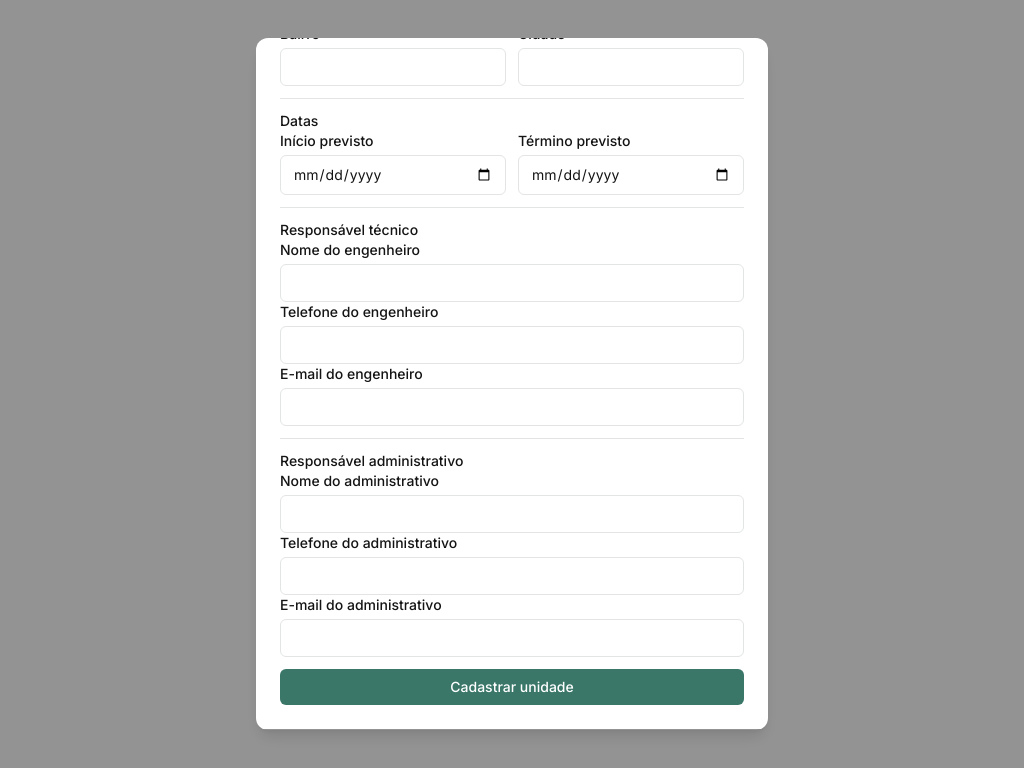
Test case: UnitFormModal › exige o nome ao enviar
The image size is (1024, 768).
(page scrolled)
Click the button "Cadastrar unidade".
click(512, 687)  # box [280,669,744,705]
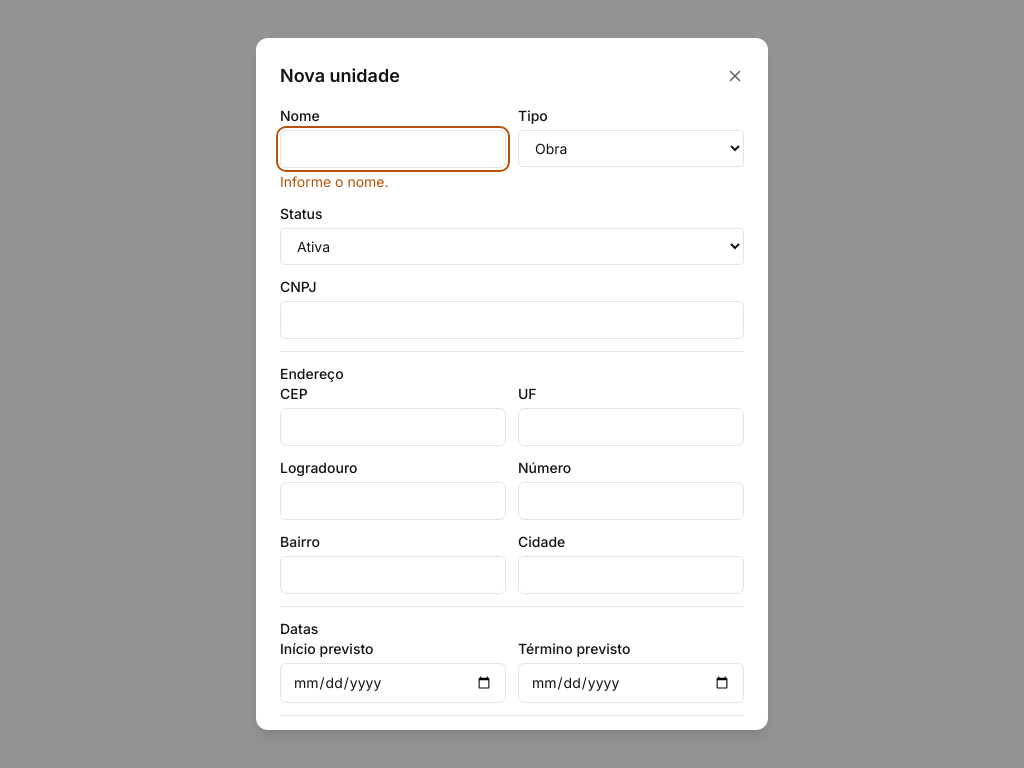
Check: the text "Informe o nome." is shown, box [280,173,388,190]
